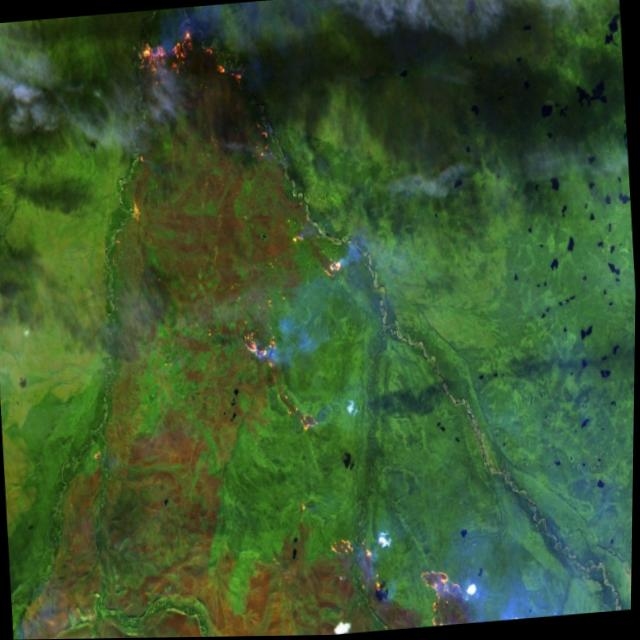fire: (321, 507, 463, 636), (239, 317, 328, 446), (129, 15, 256, 92), (287, 209, 352, 293)
